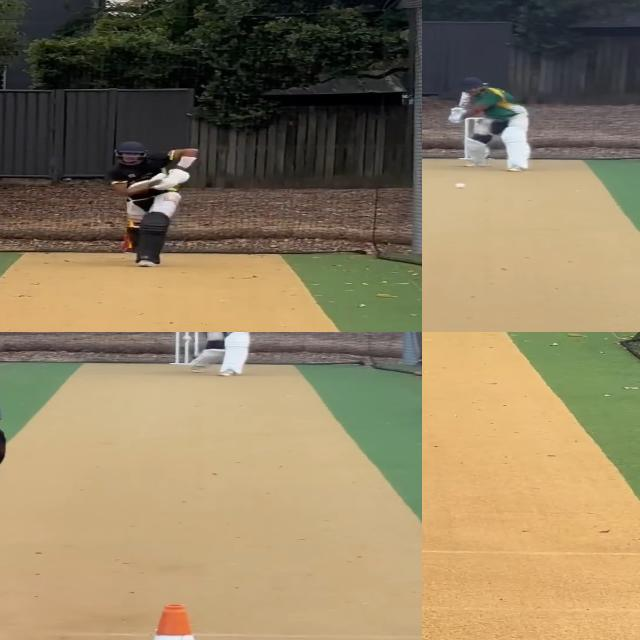Cricket ball: (452, 182, 469, 190), (180, 333, 195, 342)
Stumps: (173, 332, 201, 365)
